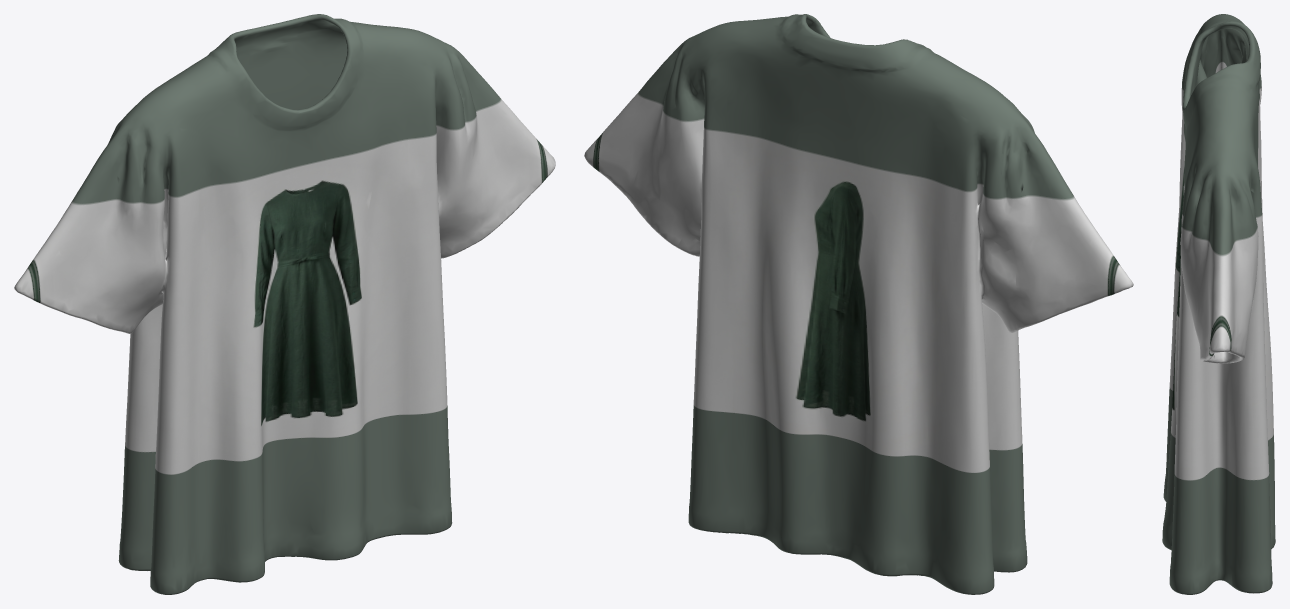
File: vtx_3d_cbb285ad.glb
3 renders of one model, left to right at view 1: azimuth 30°, elevation 25°; view 2: azimuth 150°, elevation 25°; view 3: azimuth 270°, elevation 25°, orthographic. The views are drawn at different scales.
Parts seen in each view (by area): view 1: garment; view 2: garment; view 3: garment.
Boxes of the visible parts, bbox=[...] form: garment: bbox=[14, 14, 555, 594]; garment: bbox=[584, 14, 1133, 594]; garment: bbox=[1162, 14, 1275, 594].
Size of the model in its own units: 1.99 by 1.81 by 0.3833.
Materials: 1 (1 with a texture image).
